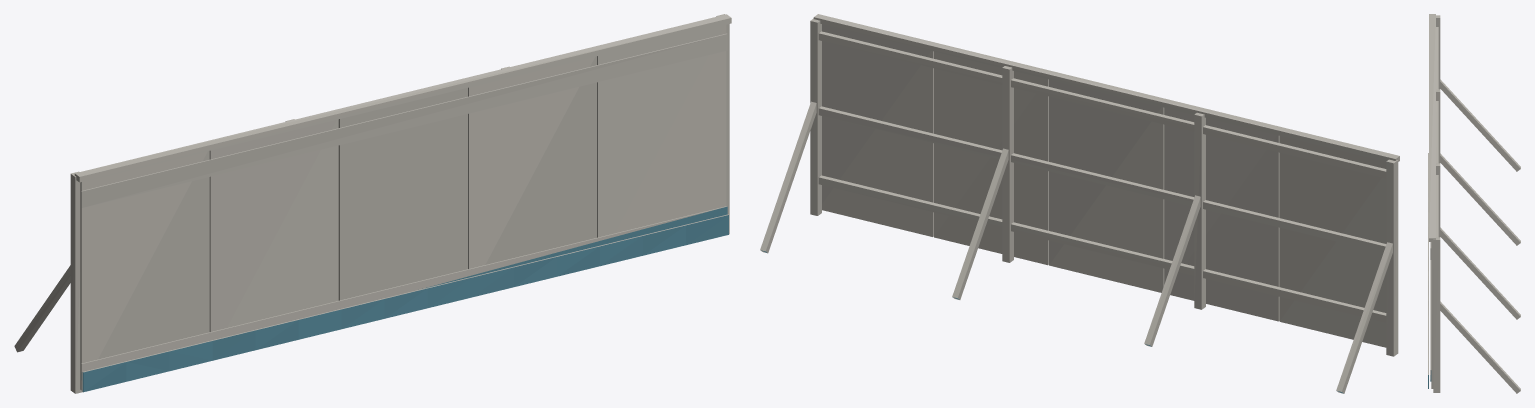
File: site-hoarding-00.glb
3 views of the same model, side by side, from view 1: azimuth 30°, elevation 25°; view 2: azimuth 150°, elevation 25°; view 3: azimuth 270°, elevation 25° (orthographic). The views are drawn at different scales.
Parts seen in each view (by area): view 1: site_hoarding_00; view 2: site_hoarding_00; view 3: site_hoarding_00.
Boxes of the visible parts, box(x1,y1,x2,y2) form: site_hoarding_00: box(14, 14, 731, 393); site_hoarding_00: box(760, 14, 1399, 393); site_hoarding_00: box(1428, 14, 1520, 393).
Size of the model in its own units: 6.19 by 2 by 1.08.
